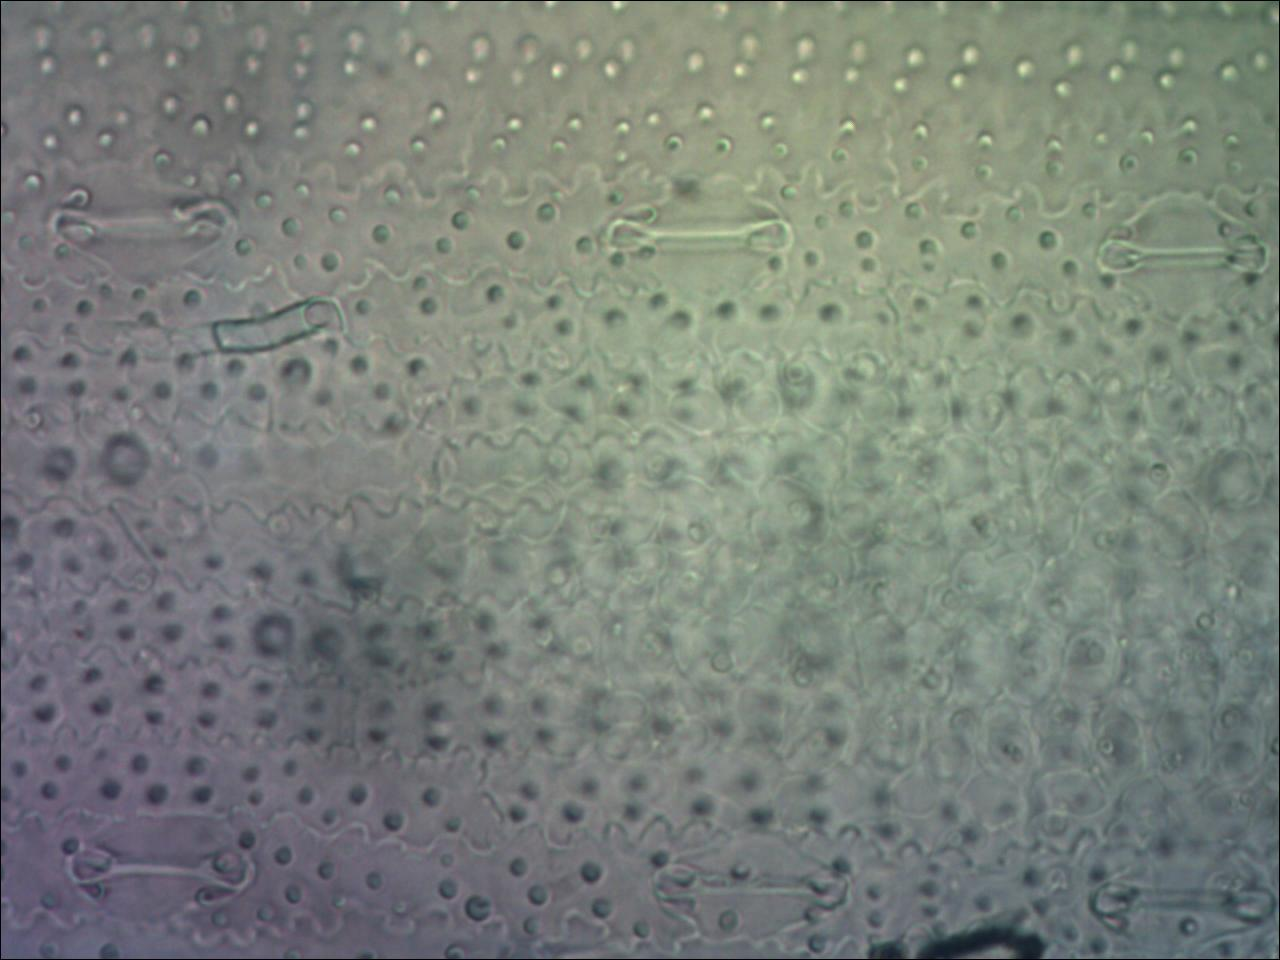stoma: (645, 828, 852, 943), (65, 807, 255, 928), (608, 182, 795, 301), (52, 169, 238, 289), (1078, 843, 1277, 955), (1098, 191, 1269, 311)
